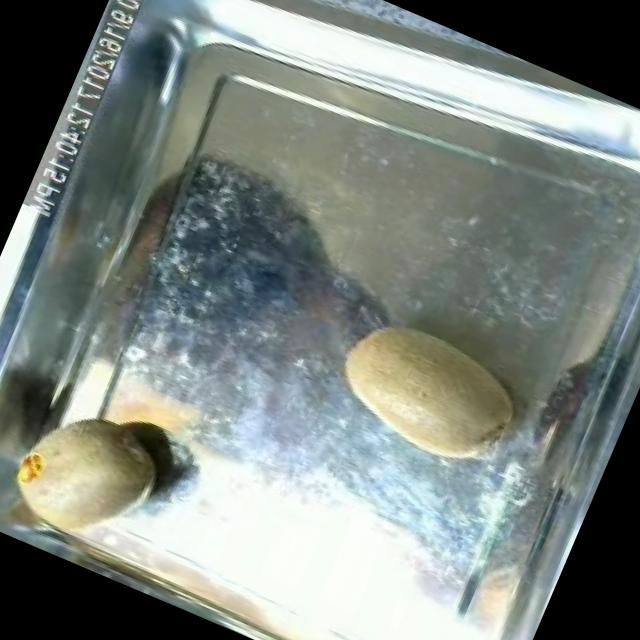Fruit: (310, 288, 542, 488), (0, 381, 191, 575)
